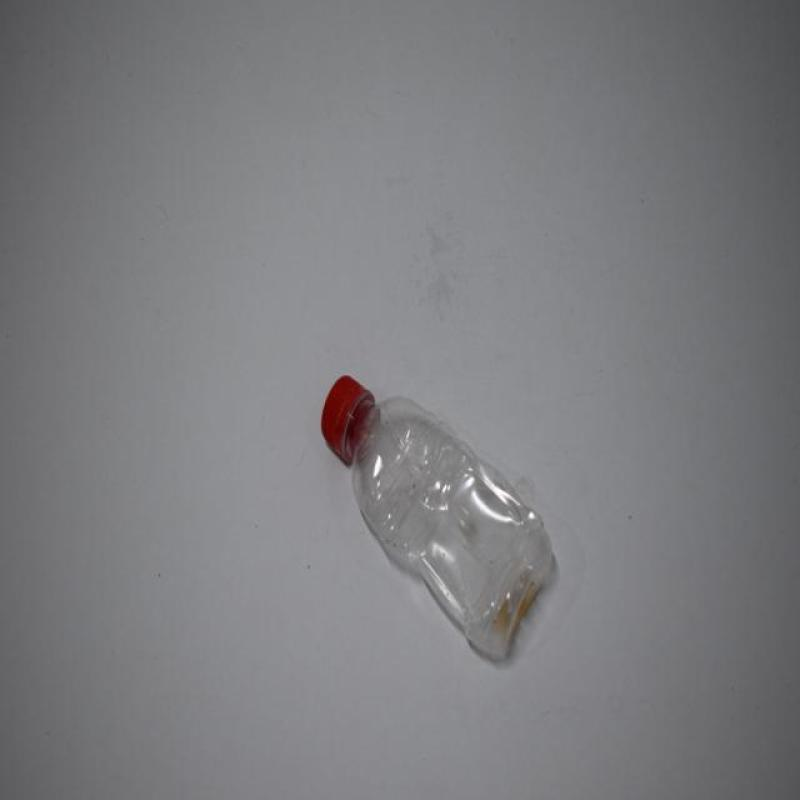botella: (320, 374, 560, 664)
